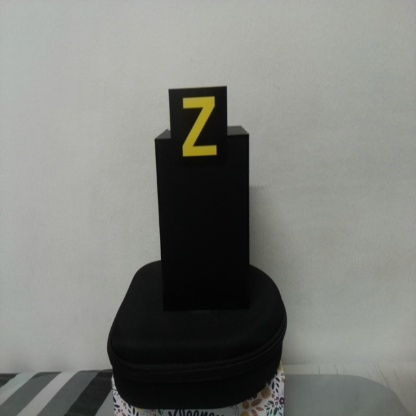id_15: (170, 89, 228, 167)
